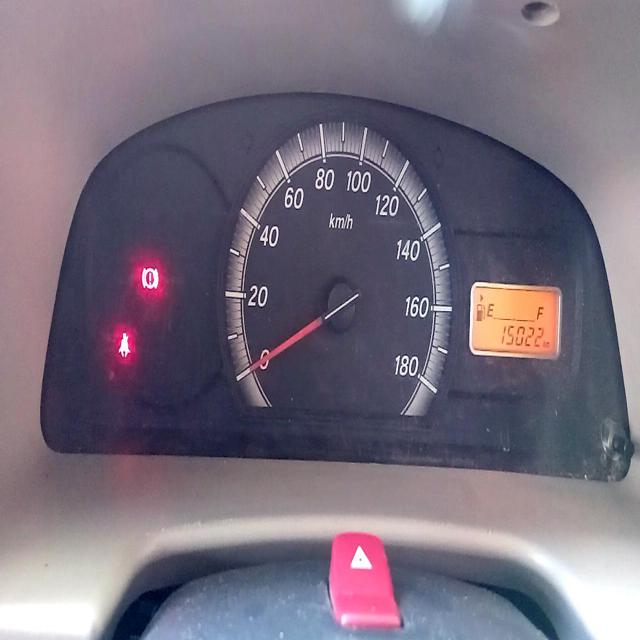odometer: (499, 321, 544, 352)
